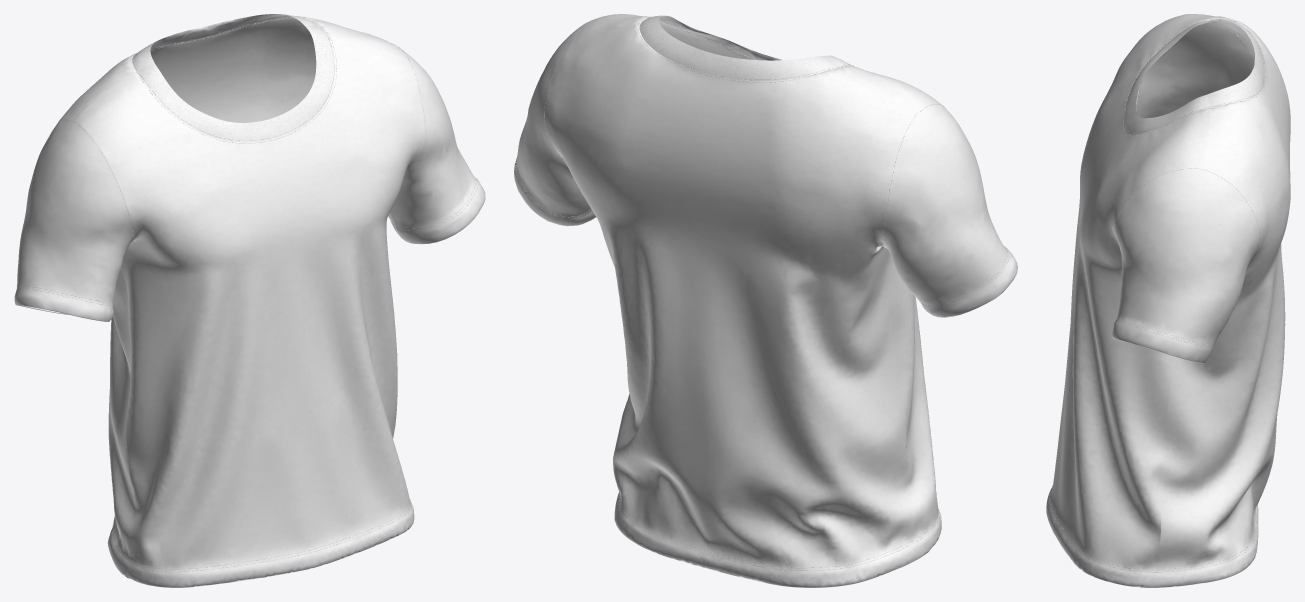
Rendered from tee_h.glb.
3 views of the same model, side by side, from view 1: azimuth 30°, elevation 25°; view 2: azimuth 150°, elevation 25°; view 3: azimuth 270°, elevation 25° (orthographic). The views are drawn at different scales.
Parts seen in each view (by area): view 1: Cloth_mesh; view 2: Cloth_mesh; view 3: Cloth_mesh.
Boxes of the visible parts, <box> form: Cloth_mesh: <box>14,14,485,587</box>; Cloth_mesh: <box>514,14,1017,587</box>; Cloth_mesh: <box>1046,14,1290,587</box>.
Bounding box in the file's own units: 0.6365 × 0.6463 × 0.2993.
5 materials, 5 textured.
